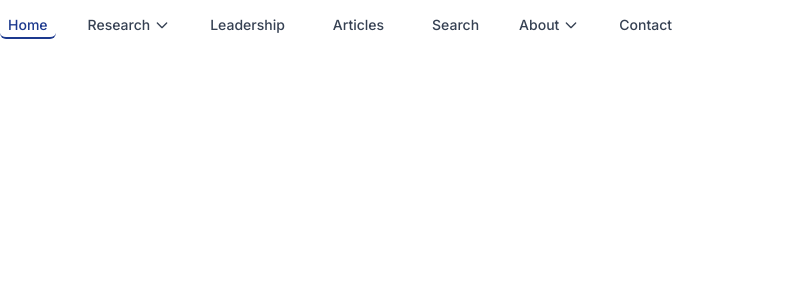
Test: Navigation Component › renders research division dropdown
Hover over the button "Research" at (129, 25), box [88,15,170,35]
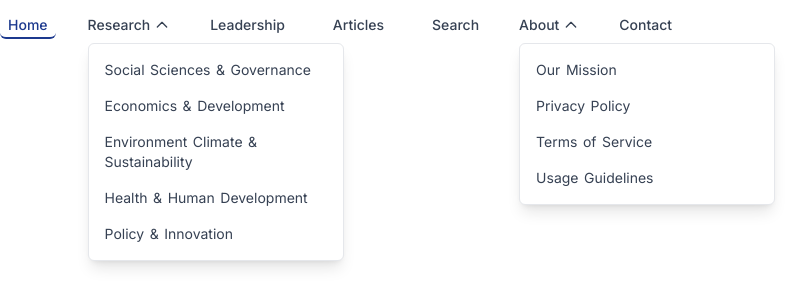
Expected: the menu item "Social Sciences & Governance" is shown, [104,61,311,78]
Expected: the menu item "Economics & Development" is shown, [104,97,284,114]
Expected: the menu item "Environment Climate & Sustainability" is shown, [104,133,257,170]
